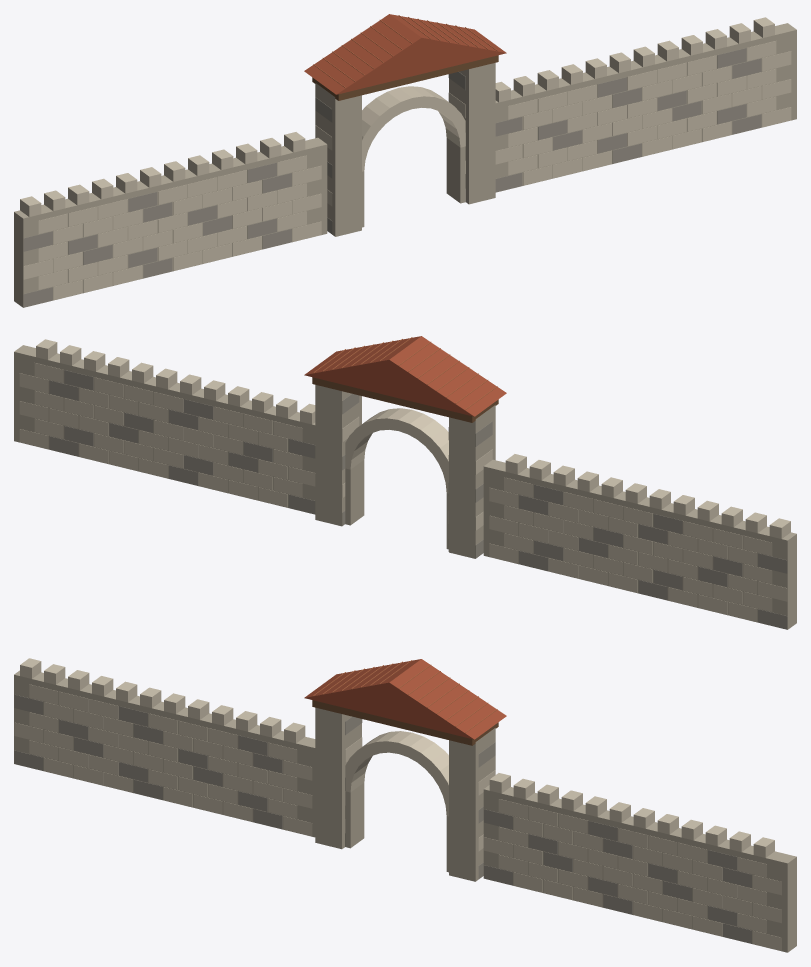
File: 05_inner_wall.glb
The picture shows the model from 3 angles, top to bottom: view 1: azimuth 30°, elevation 25°; view 2: azimuth 150°, elevation 25°; view 3: azimuth 330°, elevation 25°; orthographic projection.
Parts seen in each view (by area): view 1: 05_inner_wall_ashlar_nocol, 05_inner_wall_stone, 05_inner_wall_mortar_nocol, 05_inner_wall_ashlar, 05_inner_wall_roof, 05_inner_wall_wood, 05_inner_wall_rooflight_nocol; view 2: 05_inner_wall_ashlar_nocol, 05_inner_wall_stone, 05_inner_wall_mortar_nocol, 05_inner_wall_ashlar, 05_inner_wall_roof, 05_inner_wall_wood, 05_inner_wall_rooflight_nocol; view 3: 05_inner_wall_ashlar_nocol, 05_inner_wall_stone, 05_inner_wall_mortar_nocol, 05_inner_wall_ashlar, 05_inner_wall_roof, 05_inner_wall_wood, 05_inner_wall_rooflight_nocol.
Boxes of the visible parts, x1,y1,x2,y2 form: 05_inner_wall_ashlar_nocol: (23, 41, 791, 300); 05_inner_wall_stone: (14, 23, 796, 307); 05_inner_wall_mortar_nocol: (23, 48, 761, 307); 05_inner_wall_ashlar: (20, 17, 774, 216); 05_inner_wall_roof: (304, 14, 506, 94); 05_inner_wall_wood: (312, 55, 498, 100); 05_inner_wall_rooflight_nocol: (313, 15, 497, 88); 05_inner_wall_ashlar_nocol: (19, 363, 787, 622); 05_inner_wall_stone: (14, 345, 796, 629); 05_inner_wall_mortar_nocol: (49, 370, 787, 629); 05_inner_wall_ashlar: (36, 339, 790, 538); 05_inner_wall_roof: (304, 336, 506, 416); 05_inner_wall_wood: (312, 377, 498, 422); 05_inner_wall_rooflight_nocol: (313, 337, 497, 410); 05_inner_wall_ashlar_nocol: (14, 684, 781, 950); 05_inner_wall_stone: (14, 670, 796, 952); 05_inner_wall_mortar_nocol: (14, 694, 751, 943); 05_inner_wall_ashlar: (20, 658, 774, 857); 05_inner_wall_roof: (304, 659, 506, 739); 05_inner_wall_wood: (312, 700, 498, 745); 05_inner_wall_rooflight_nocol: (313, 660, 497, 733).
Size of the model in its own units: 290 by 66 by 21.
